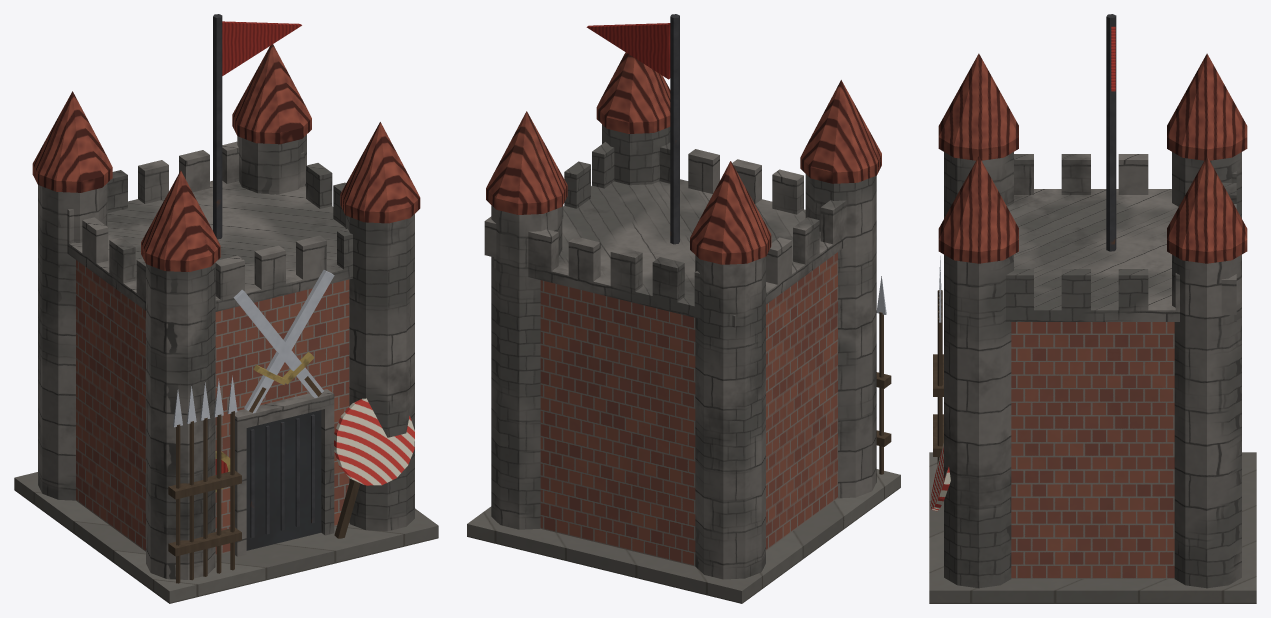
File: 상점_공격타입강화소.fbx
The picture shows the model from 3 angles, left to right: view 1: azimuth 30°, elevation 25°; view 2: azimuth 150°, elevation 25°; view 3: azimuth 270°, elevation 25°; orthographic projection. The views are drawn at different scales.
Parts seen in each view (by area): view 1: 상점_공격타입강화소; view 2: 상점_공격타입강화소; view 3: 상점_공격타입강화소.
Boxes of the visible parts, x1,y1,x2,y2 form: 상점_공격타입강화소: (14, 14, 438, 603); 상점_공격타입강화소: (467, 14, 900, 603); 상점_공격타입강화소: (929, 14, 1256, 603).
Bounding box in the file's own units: 890 × 1555 × 890.
Materials: 12 (12 with a texture image).
